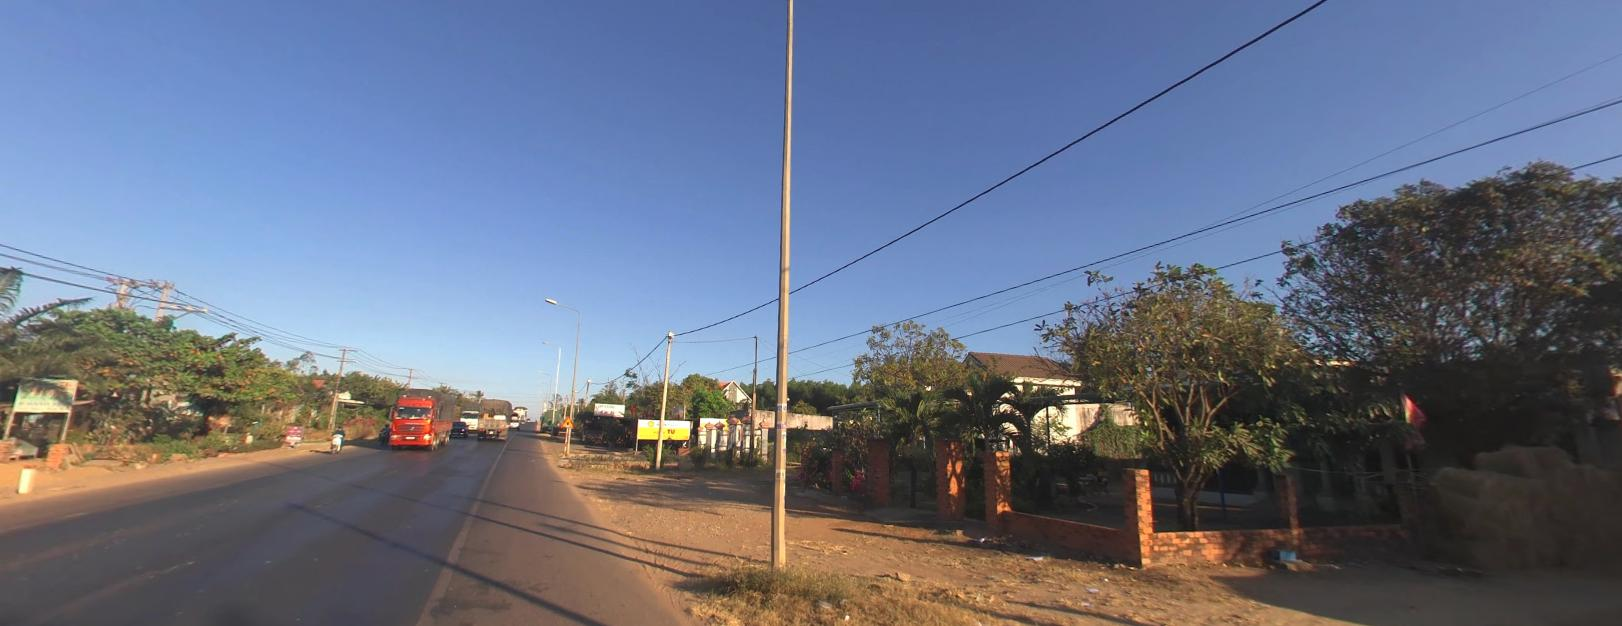Nguy hiem: (560, 414, 574, 429)
